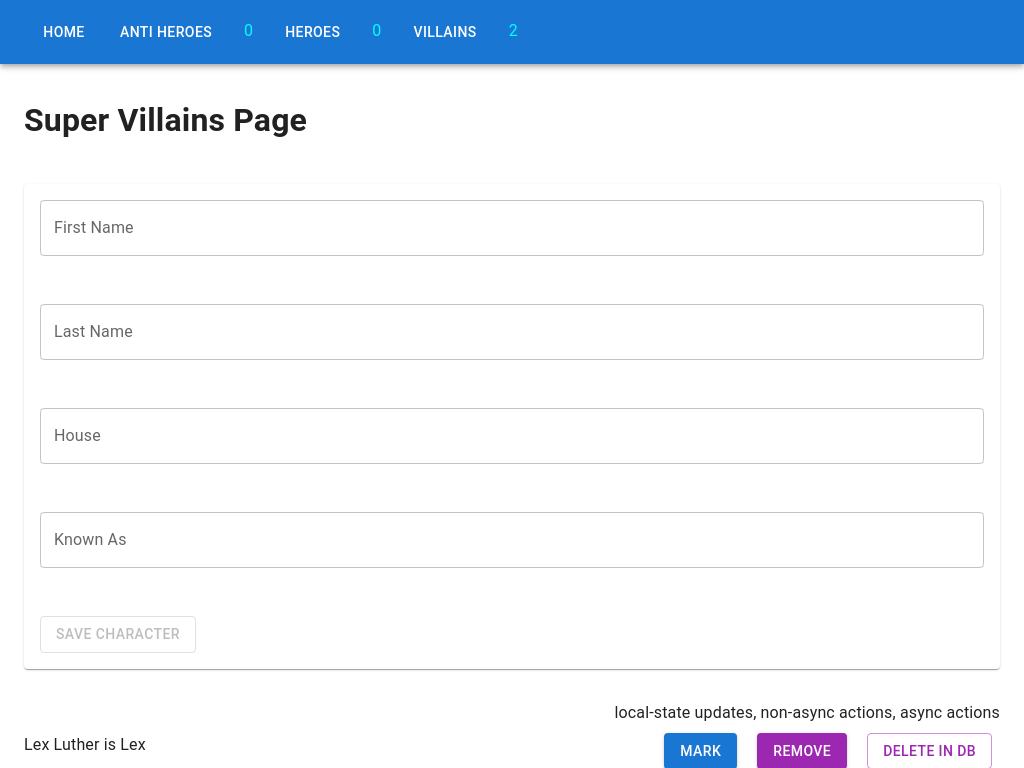
Test: Villains Page › should delete a villain from the database
Click the button with test id "delete-button": [930, 751] box [867,732,992,767]
(page scrolled)
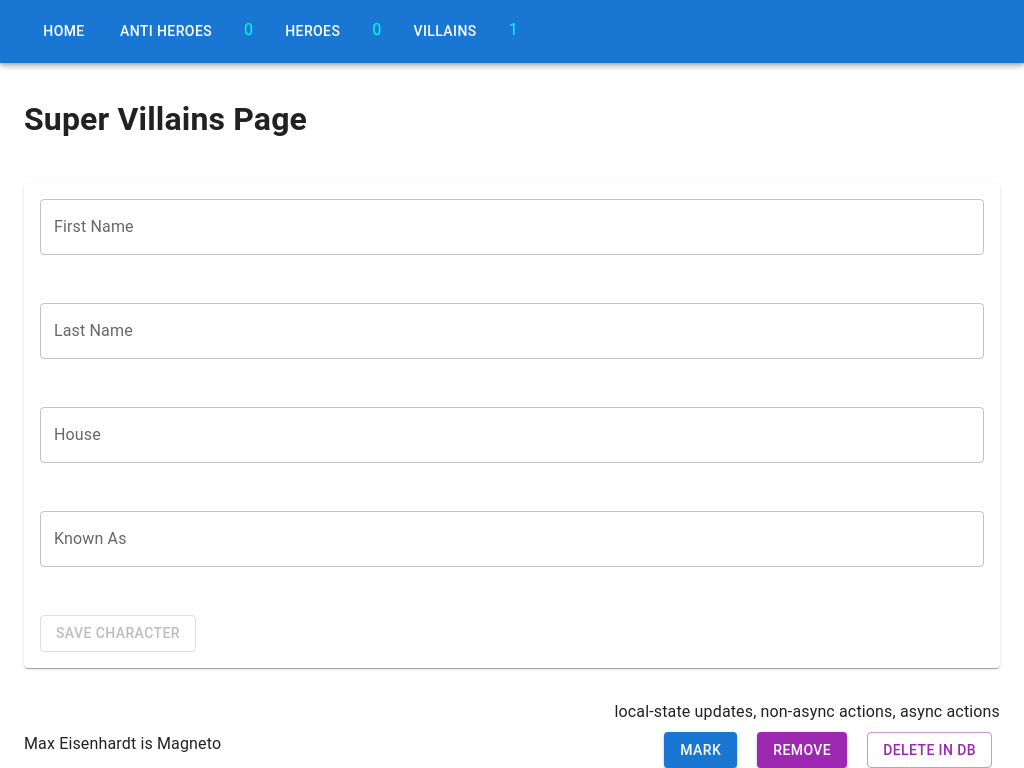
Expected: the element with test id "card" is shown, [24,732,1000,767]
Now the text with test id "total-villains" reads "1", box [509,20,518,39]
